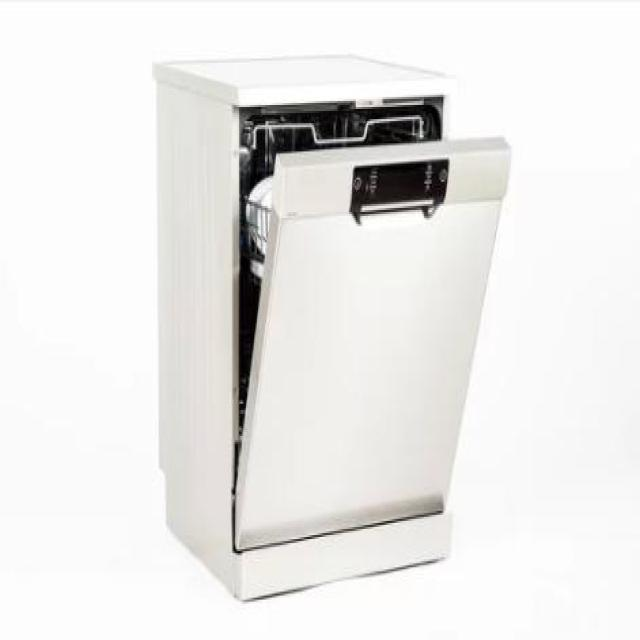dishwasher: (155, 49, 516, 604)
